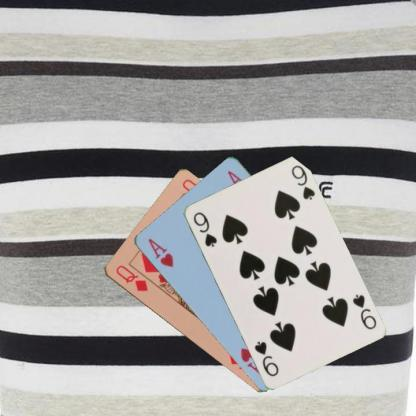9s: (190, 209, 218, 249), (350, 291, 377, 331)
Ah: (145, 235, 175, 268)
Qd: (113, 262, 149, 293)
